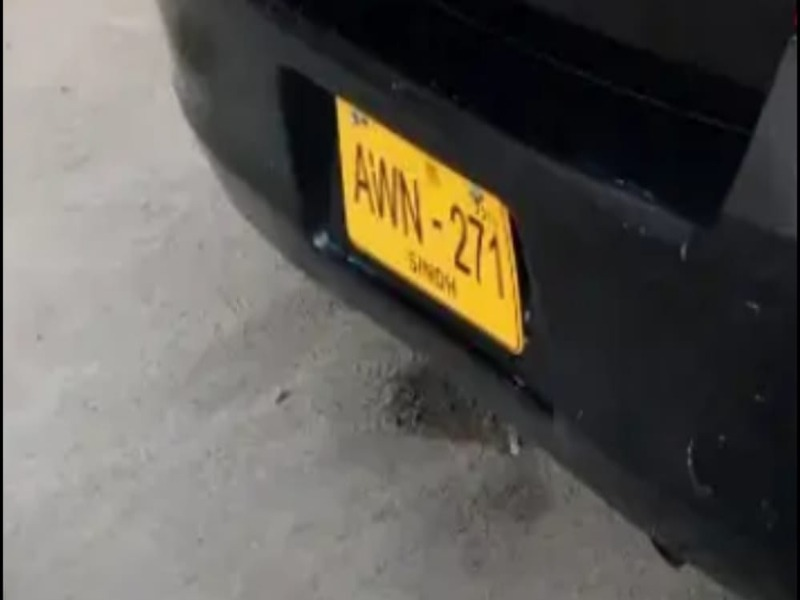License Plate: (332, 100, 520, 357)
